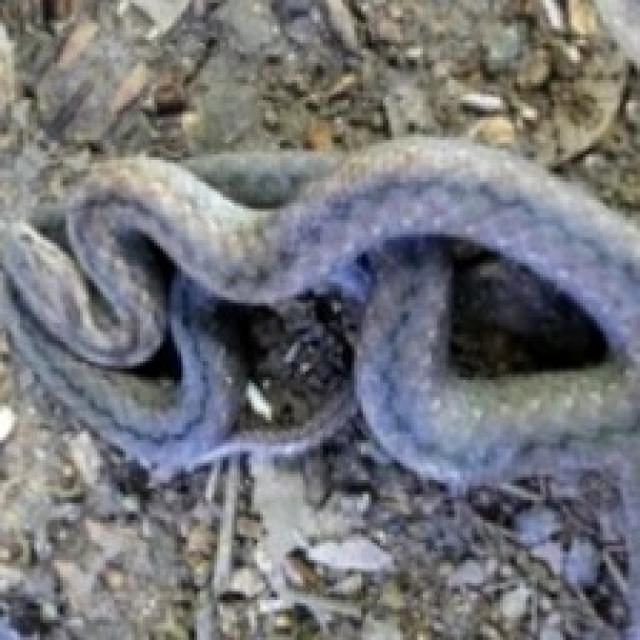reinhardts lined snake: (0, 137, 637, 486), (234, 306, 303, 426)
